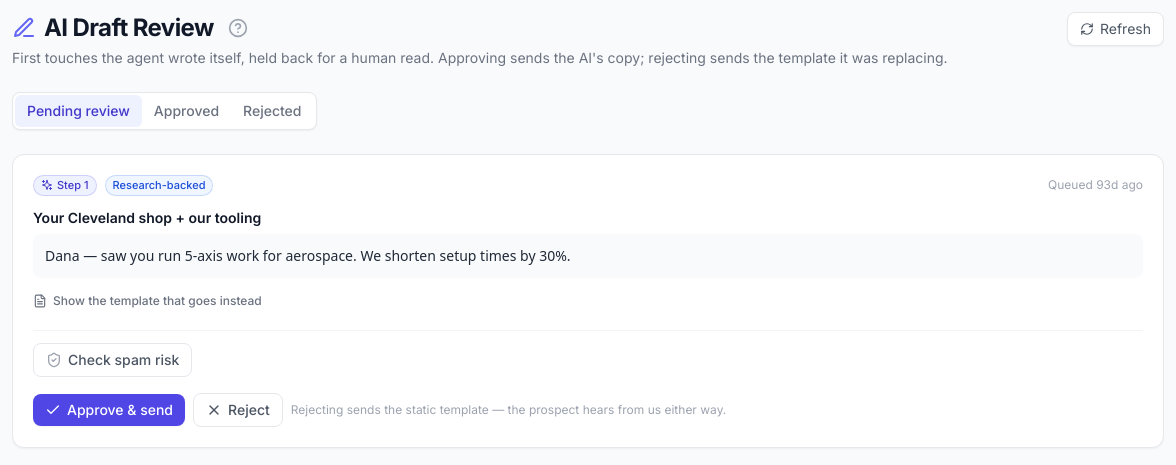
Scenario: AiDrafts page › surfaces a failed scan instead of a silent no-op
The width and height of the screenshot is (1176, 465).
Expected: the text "Your Cleveland shop + our tooling" is shown, [33,208,261,226]
Step 1. Click the button "Check spam risk" → click(113, 360), box [33,342,192,376]
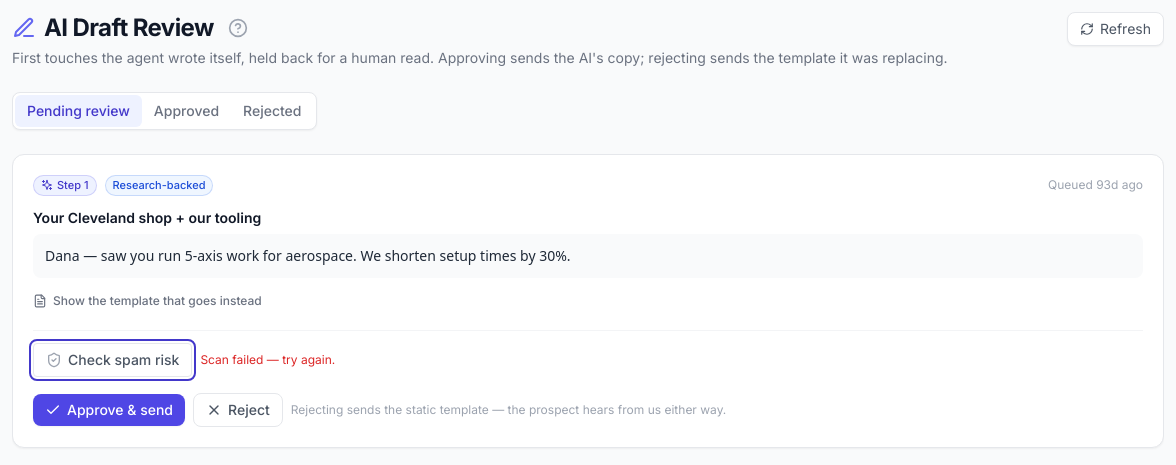
Now the text "Scan failed — try again." is shown, box [200,352,335,368]
